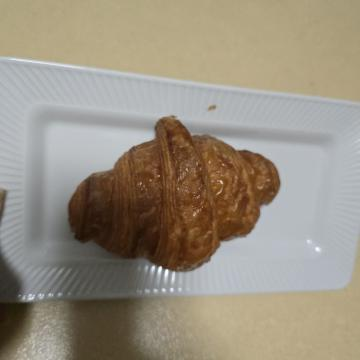croissant: (98, 71, 289, 308)
